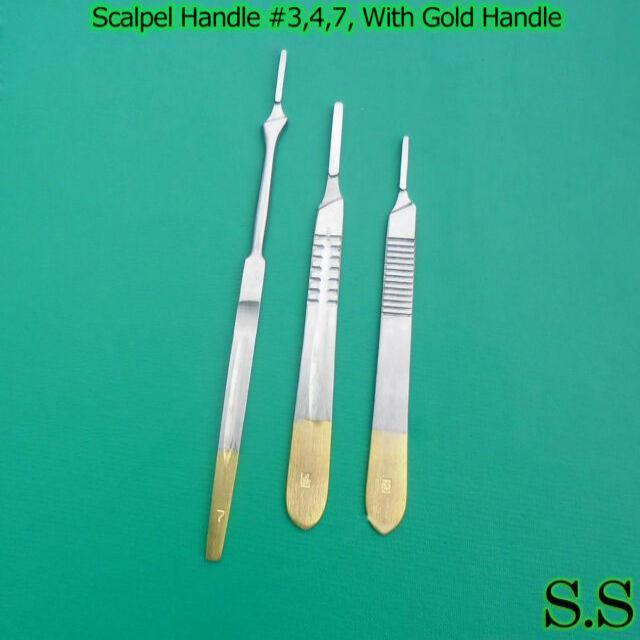Scalpel: (199, 43, 291, 564), (282, 97, 347, 531), (362, 132, 420, 538)
